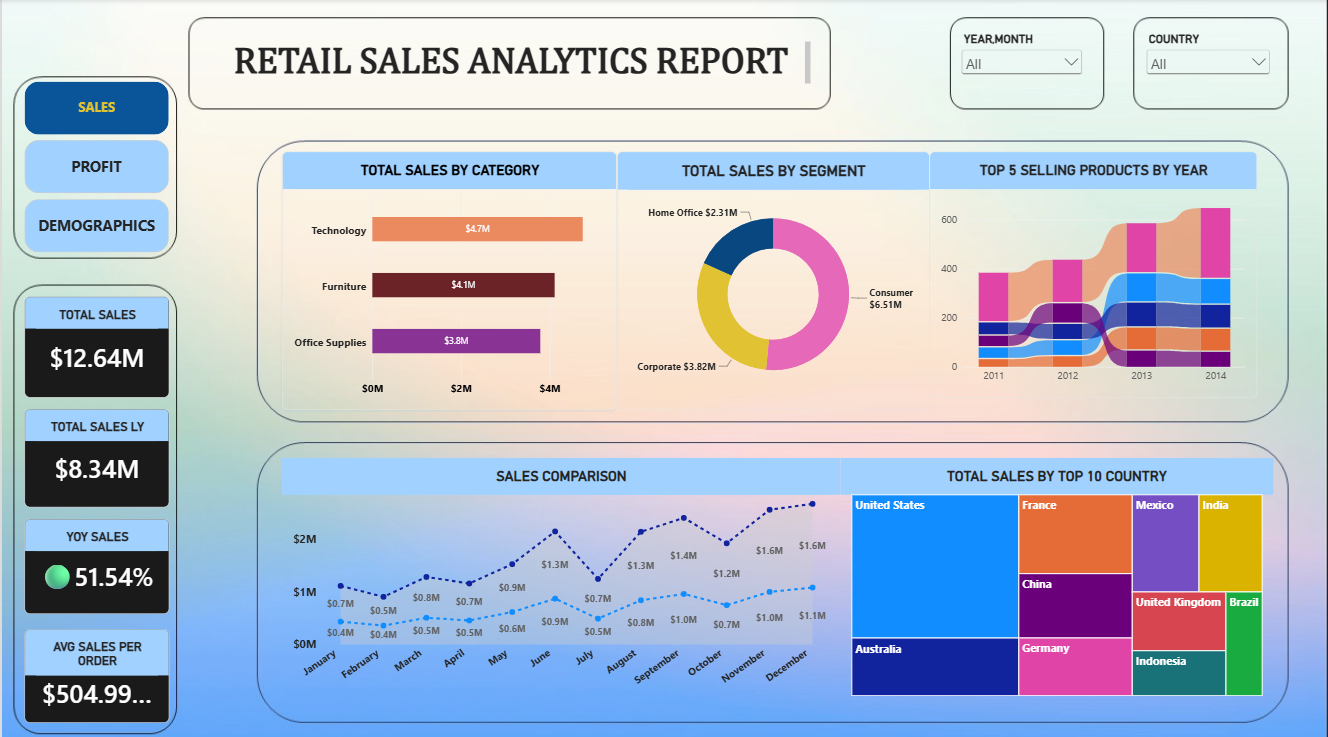

The dashboard page shown, as its layout file describes it:
{"tool":"powerbi","page":{"name":"SALES","canvas":[1920,1080],"ordinal":0},"visuals":[{"type":"pageNavigator","box":[32.6,119.4,209.9,247.9],"z":0},{"type":"card","title":"TOTAL SALES","fields":{"Values":["calculated_table.total_sales"]},"box":[32.9,430.2,209.9,146.1],"z":1000},{"type":"card","title":"TOTAL SALES LY","fields":{"Values":["calculated_table.total_sales_ly"]},"box":[32.9,592.8,209.9,142],"z":2000},{"type":"card","title":"YOY SALES","fields":{"Values":["calculated_table.yoy_sales"]},"box":[32.9,753.3,209.9,137.9],"z":3000},{"type":"card","title":"AVG SALES PER ORDER","fields":{"Values":["calculated_table.avg_sales_per_order"]},"box":[32.9,911.8,209.9,135.8],"z":4000},{"type":"clusteredBarChart","title":"TOTAL SALES BY CATEGORY","fields":{"Category":["product_table.Category"],"Y":["calculated_table.total_sales"]},"box":[405.4,220.8,485,374.6],"z":5000},{"type":"donutChart","title":"TOTAL SALES BY SEGMENT","fields":{"Category":["customer_table.Segment"],"Y":["calculated_table.total_sales"]},"box":[890.4,220.8,452.4,374.6],"z":6000},{"type":"slicer","fields":{"Values":["Date_table.Date.Variation.Date Hierarchy.Year","Date_table.Date.Variation.Date Hierarchy.Month"]},"box":[1384.4,47.1,184.6,144.8],"z":7000},{"type":"slicer","fields":{"Values":["location_table.Country"]},"box":[1652.2,47.1,188.2,150.2],"z":8000},{"type":"textbox","box":[311.3,61.5,859.6,61.5],"z":9000},{"type":"ribbonChart","title":"TOP 5 SELLING PRODUCTS BY YEAR","fields":{"Category":["Date_table.Date.Variation.Date Hierarchy.Year"],"Series":["product_table.Product Name"],"Y":["calculated_table.total_qty"]},"box":[1342.8,220.8,474.1,356.5],"z":10000},{"type":"stackedAreaChart","title":"SALES COMPARISON","fields":{"Category":["Date_table.Date.Variation.Date Hierarchy.Month"],"Y":["calculated_table.total_sales_ly","calculated_table.total_sales"]},"box":[405.4,664.1,808.9,360.1],"z":11000},{"type":"treemap","title":"TOTAL SALES BY TOP 10 COUNTRY","fields":{"Group":["location_table.Country"],"Values":["calculated_table.total_sales"]},"box":[1214.3,664.1,626.1,360.1],"z":12000}]}

Visuals, with their boxes in screenshot pixels (x1, y1, x2, y2), scaled from the page's 1920x1080 canvas onto the 1328x737 screenshot:
pageNavigator: region(23, 81, 168, 251)
"TOTAL SALES" card: region(23, 294, 168, 393)
"TOTAL SALES LY" card: region(23, 405, 168, 501)
"YOY SALES" card: region(23, 514, 168, 608)
"AVG SALES PER ORDER" card: region(23, 622, 168, 715)
"TOTAL SALES BY CATEGORY" clusteredBarChart: region(280, 151, 616, 406)
"TOTAL SALES BY SEGMENT" donutChart: region(616, 151, 929, 406)
slicer - Date_table.Date.Variation.Date Hierarchy.Year x Date_table.Date.Variation.Date Hierarchy.Month: region(958, 32, 1085, 131)
slicer - location_table.Country: region(1143, 32, 1273, 135)
textbox: region(215, 42, 810, 84)
"TOP 5 SELLING PRODUCTS BY YEAR" ribbonChart: region(929, 151, 1257, 394)
"SALES COMPARISON" stackedAreaChart: region(280, 453, 840, 699)
"TOTAL SALES BY TOP 10 COUNTRY" treemap: region(840, 453, 1273, 699)
